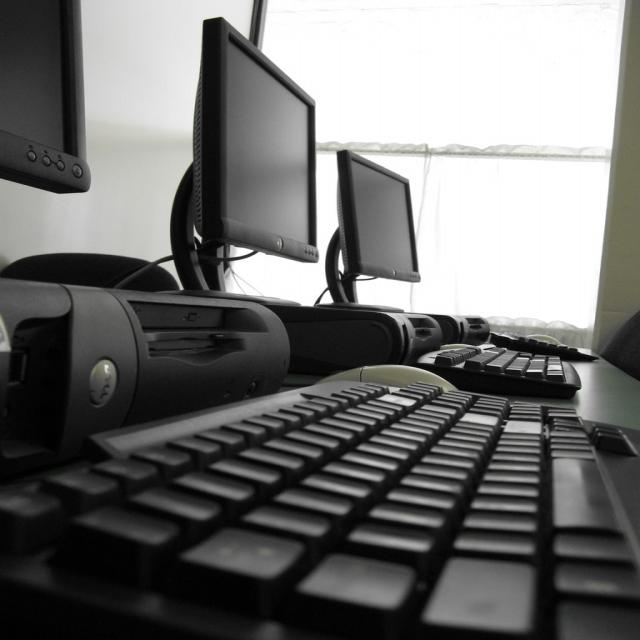desk: (283, 345, 639, 431)
keyboard: (6, 373, 640, 639), (412, 342, 582, 399)
tv: (192, 18, 318, 266)
